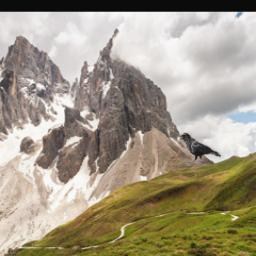Crow: (178, 133, 222, 167)
